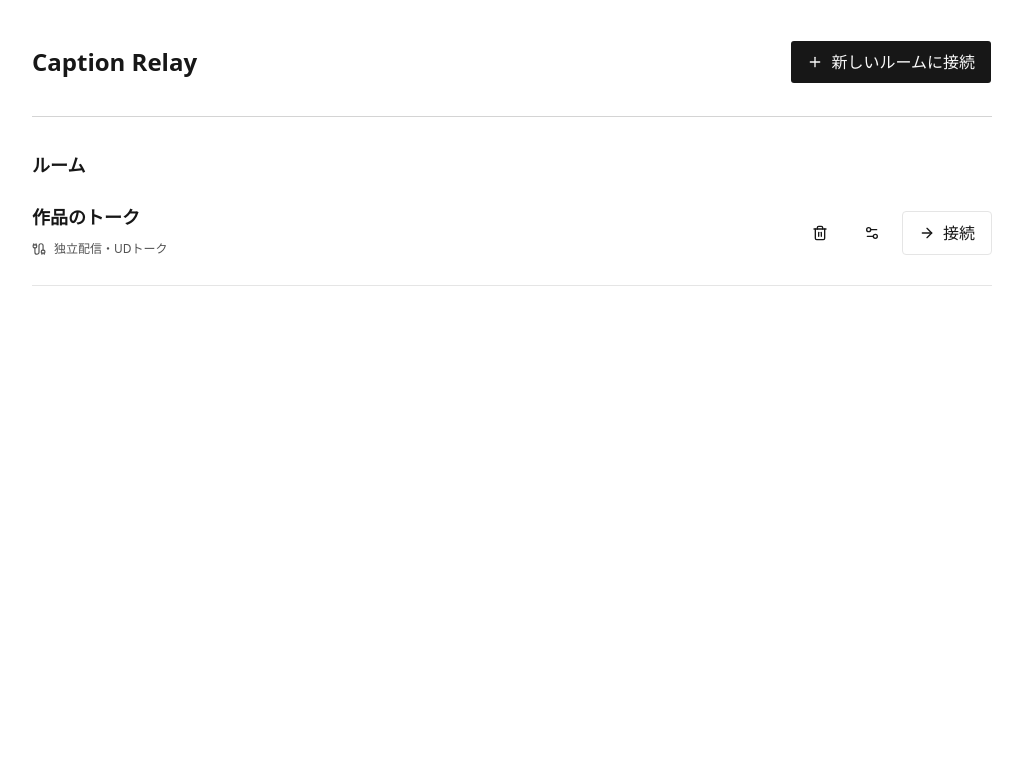
Test case: confirms deletion and removes the selected inactive room from the home
Click the 2nd button at (820, 233), box [798, 211, 842, 255]
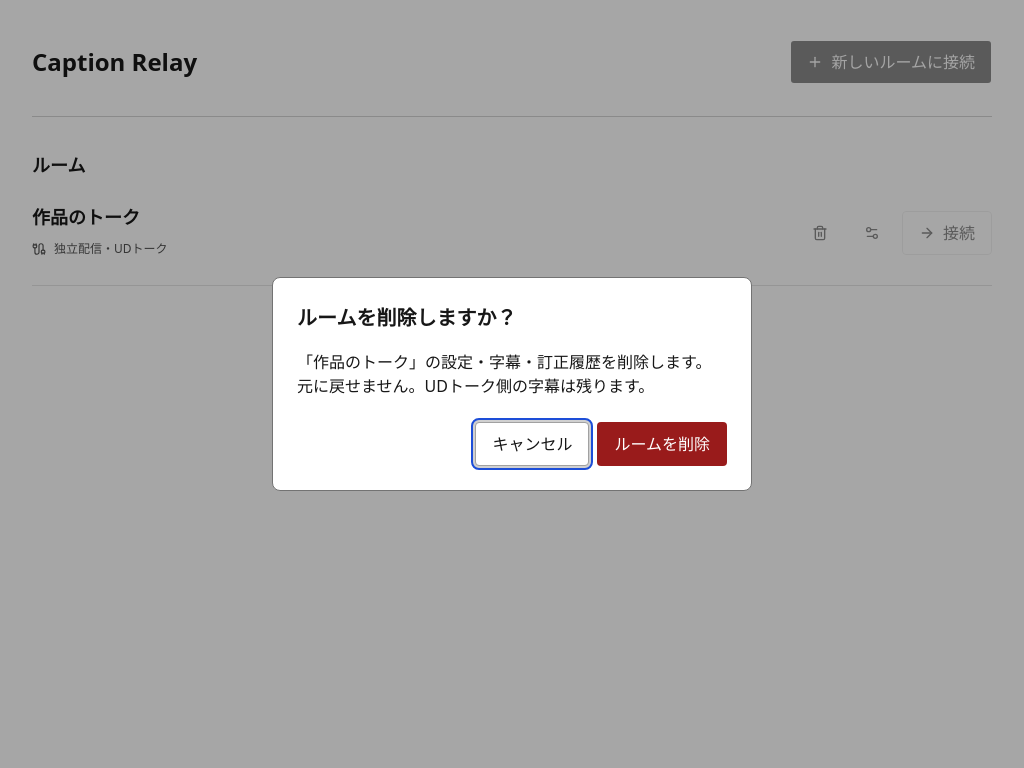
Click the button "キャンセル" at (532, 444), box [476, 422, 590, 466]
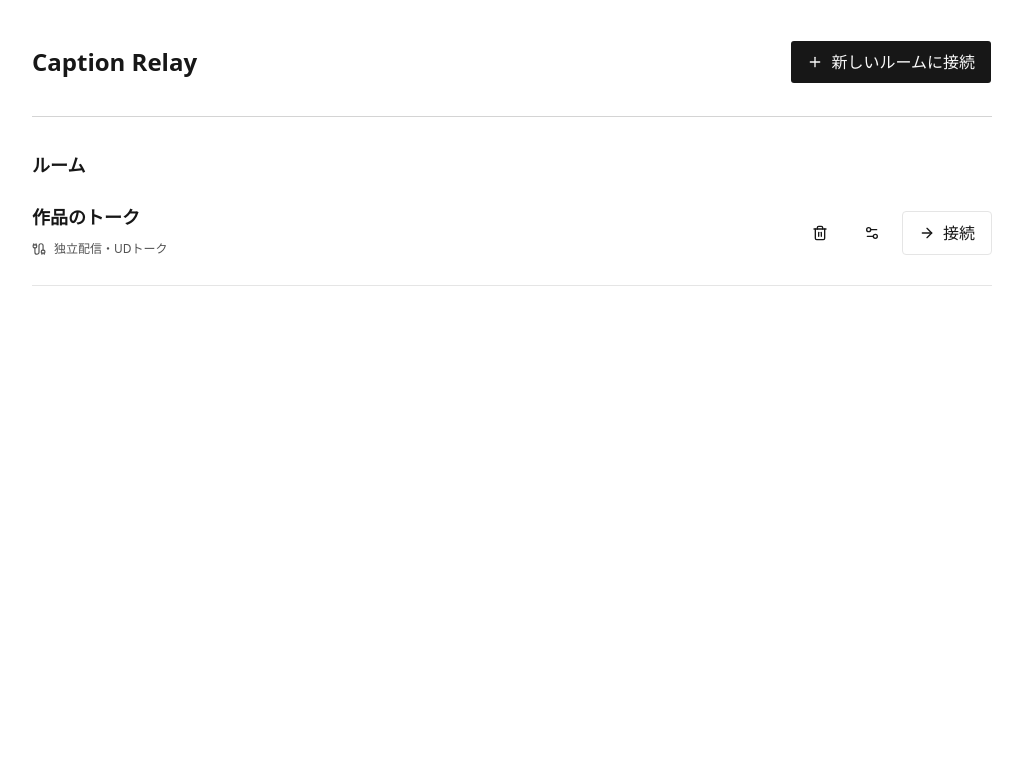
Expected: the heading "作品のトーク" is shown, [32, 205, 140, 229]
Click the 2nd button at (820, 233), box [798, 211, 842, 255]
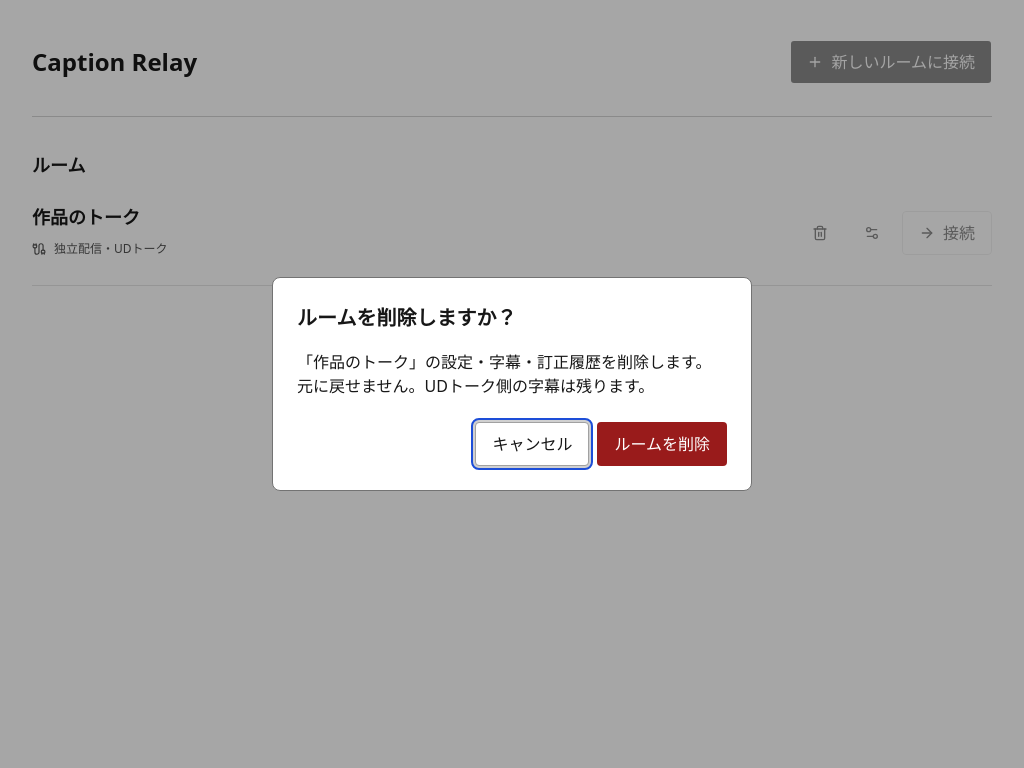
Click the button "ルームを削除" at (662, 444), box [598, 422, 727, 466]
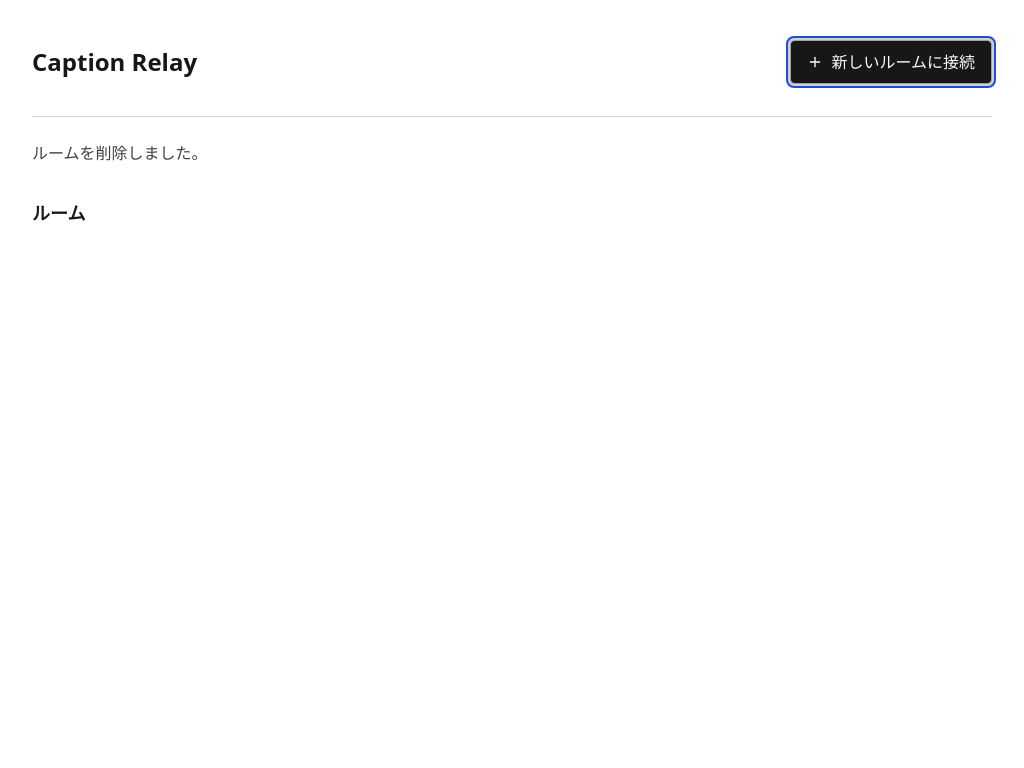
Expected: the heading "作品のトーク" is gone
